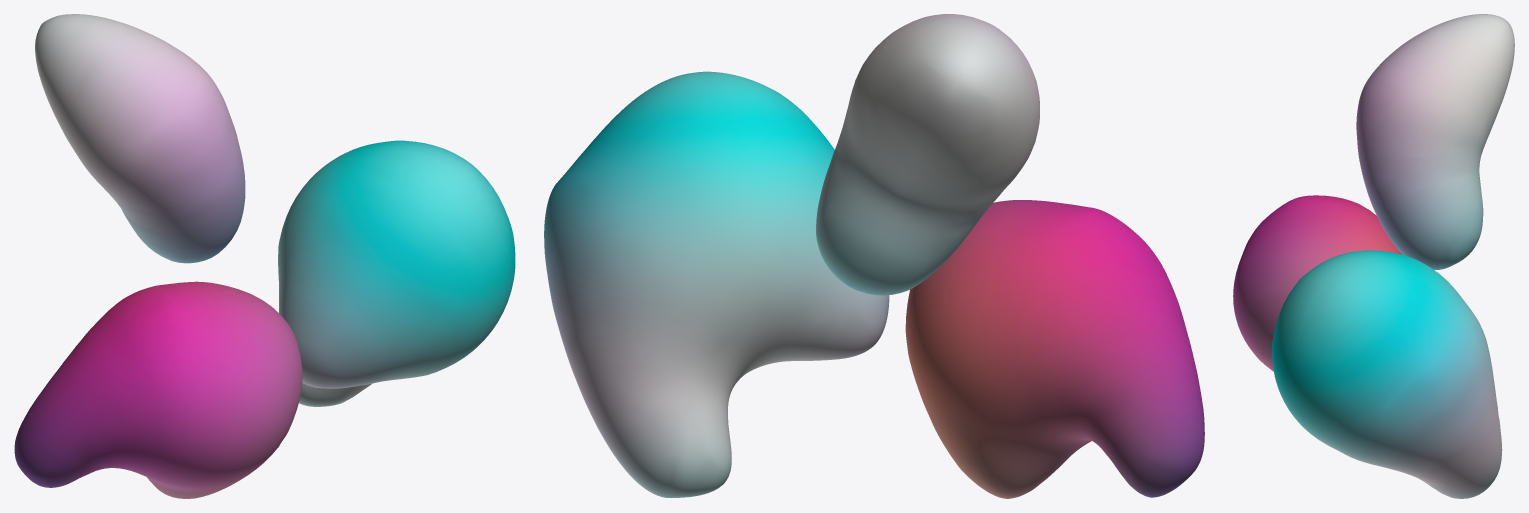
File: blobs.glb
The picture shows the model from 3 angles, left to right: view 1: azimuth 30°, elevation 25°; view 2: azimuth 150°, elevation 25°; view 3: azimuth 270°, elevation 25°; orthographic projection. The views are drawn at different scales.
Parts seen in each view (by area): view 1: Vector.017, Vector.002, Vector.001; view 2: Vector.017, Vector.002, Vector.001; view 3: Vector.017, Vector.001, Vector.002.
Boxes of the visible parts, left/top/right/bottom form: Vector.017: left=278, top=140, right=515, bottom=406; Vector.002: left=14, top=281, right=302, bottom=498; Vector.001: left=35, top=14, right=245, bottom=263; Vector.017: left=544, top=71, right=889, bottom=497; Vector.002: left=905, top=200, right=1204, bottom=498; Vector.001: left=816, top=14, right=1039, bottom=295; Vector.017: left=1272, top=250, right=1502, bottom=498; Vector.001: left=1356, top=14, right=1514, bottom=269; Vector.002: left=1233, top=195, right=1402, bottom=371.
Bounding box in the file's own units: 2.73 × 2.29 × 1.55.
